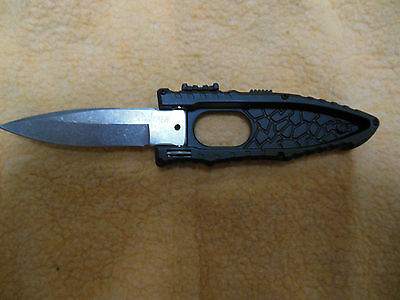knief: (4, 93, 386, 161)
